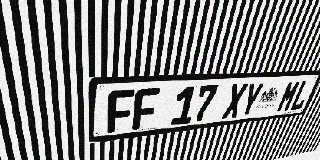1: (171, 86, 199, 125)
7: (191, 85, 219, 123)
F: (107, 89, 135, 133), (132, 88, 160, 130)
L: (289, 80, 314, 111)
M: (275, 80, 302, 113)
X: (221, 83, 249, 119)
Y: (238, 82, 265, 117)
